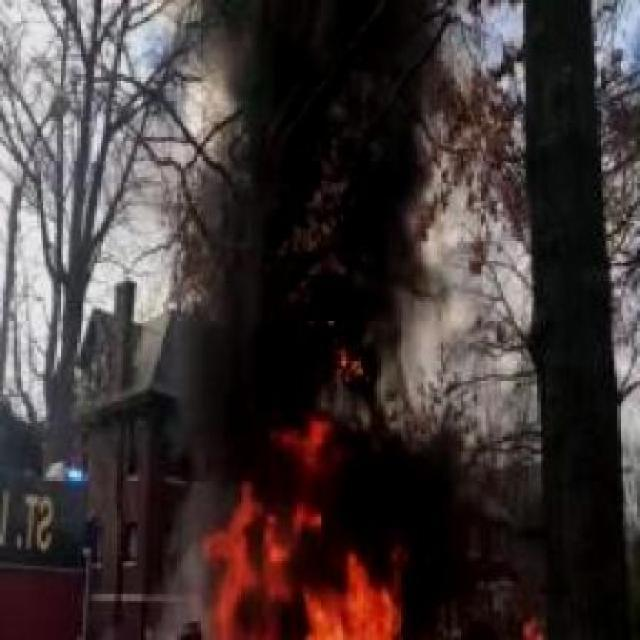Fire: (202, 420, 402, 640)
Smoke: (164, 0, 461, 423)
